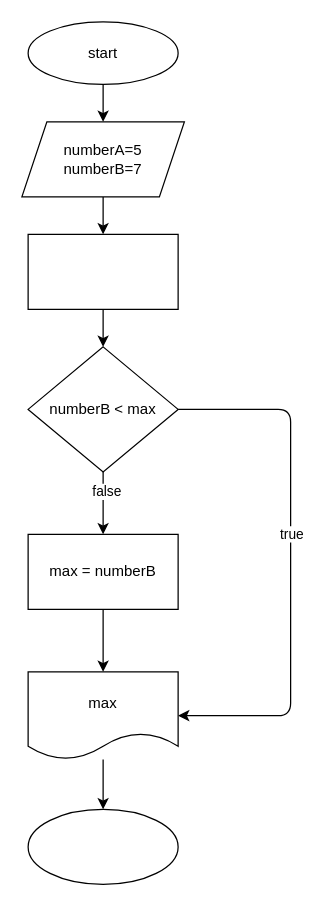
This 325x906 diagram has some shape labels left out. The shapes that lost their labels are listed below. From the top down, each one's centre as x and y in pixels, then its label:
At (x=102, y=271): "max = numberA".
At (x=102, y=846): "end".
